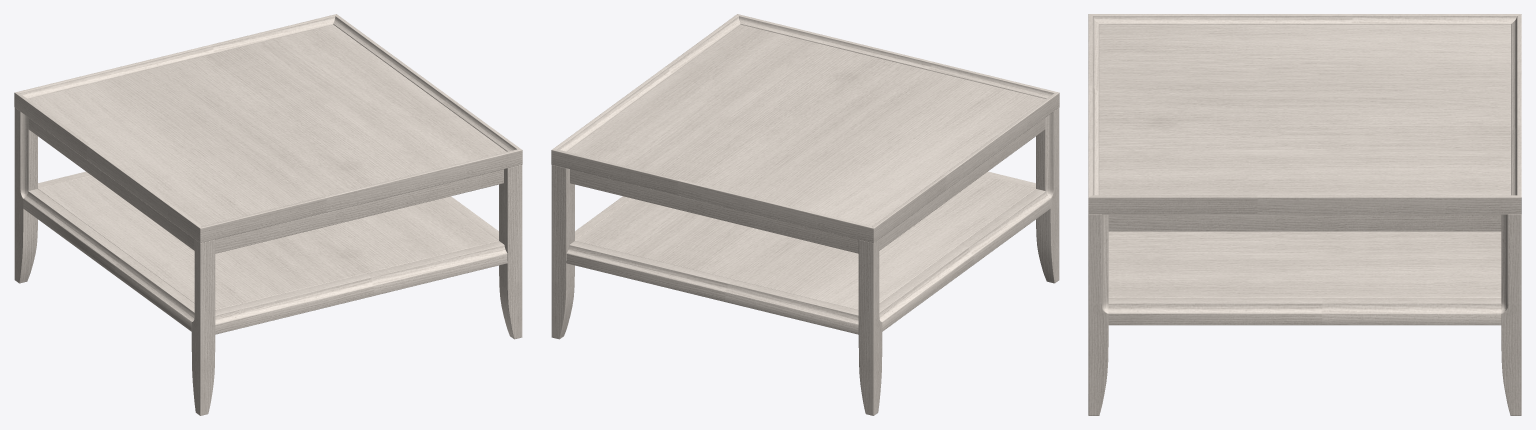
File: coffee-table2.obj
3 renders of one model, left to right at view 1: azimuth 30°, elevation 25°; view 2: azimuth 150°, elevation 25°; view 3: azimuth 270°, elevation 25°, orthographic. The views are drawn at different scales.
Parts seen in each view (by area): view 1: coffee-table2; view 2: coffee-table2; view 3: coffee-table2.
Boxes of the visible parts, left/top/right/bottom form: coffee-table2: left=14, top=14, right=522, bottom=415; coffee-table2: left=551, top=14, right=1059, bottom=415; coffee-table2: left=1088, top=14, right=1521, bottom=415.
Bounding box in the file's own units: 1.12 × 0.622 × 1.12.
1 material, 1 textured.
